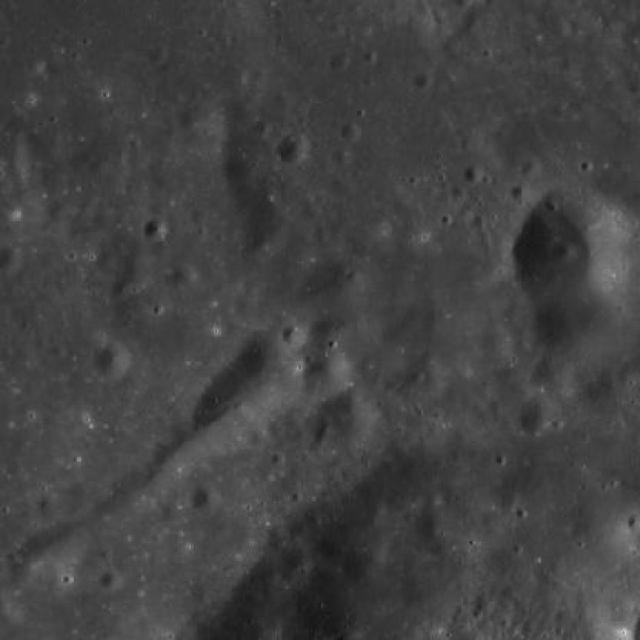crater: (215, 0, 570, 332), (510, 189, 636, 311), (538, 276, 636, 373), (228, 333, 310, 415), (193, 372, 273, 450), (314, 388, 378, 452), (395, 359, 448, 410), (301, 352, 347, 398), (531, 354, 577, 398), (518, 397, 558, 437), (92, 344, 128, 379), (122, 256, 156, 290), (276, 134, 310, 164), (282, 544, 310, 574), (190, 486, 218, 514), (35, 492, 63, 520), (0, 597, 22, 631), (0, 244, 25, 272), (311, 418, 337, 444), (158, 500, 184, 526), (172, 263, 197, 288), (282, 323, 306, 348), (143, 217, 168, 240), (472, 590, 496, 613), (552, 240, 576, 262), (100, 570, 122, 592), (145, 43, 167, 63), (521, 158, 541, 178), (332, 148, 352, 168), (111, 278, 131, 298), (413, 72, 432, 90), (340, 123, 358, 142), (465, 164, 483, 182), (330, 52, 348, 70), (624, 512, 640, 532), (510, 183, 528, 200)
